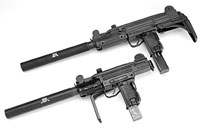rifle: (21, 7, 189, 65), (5, 64, 154, 119)
